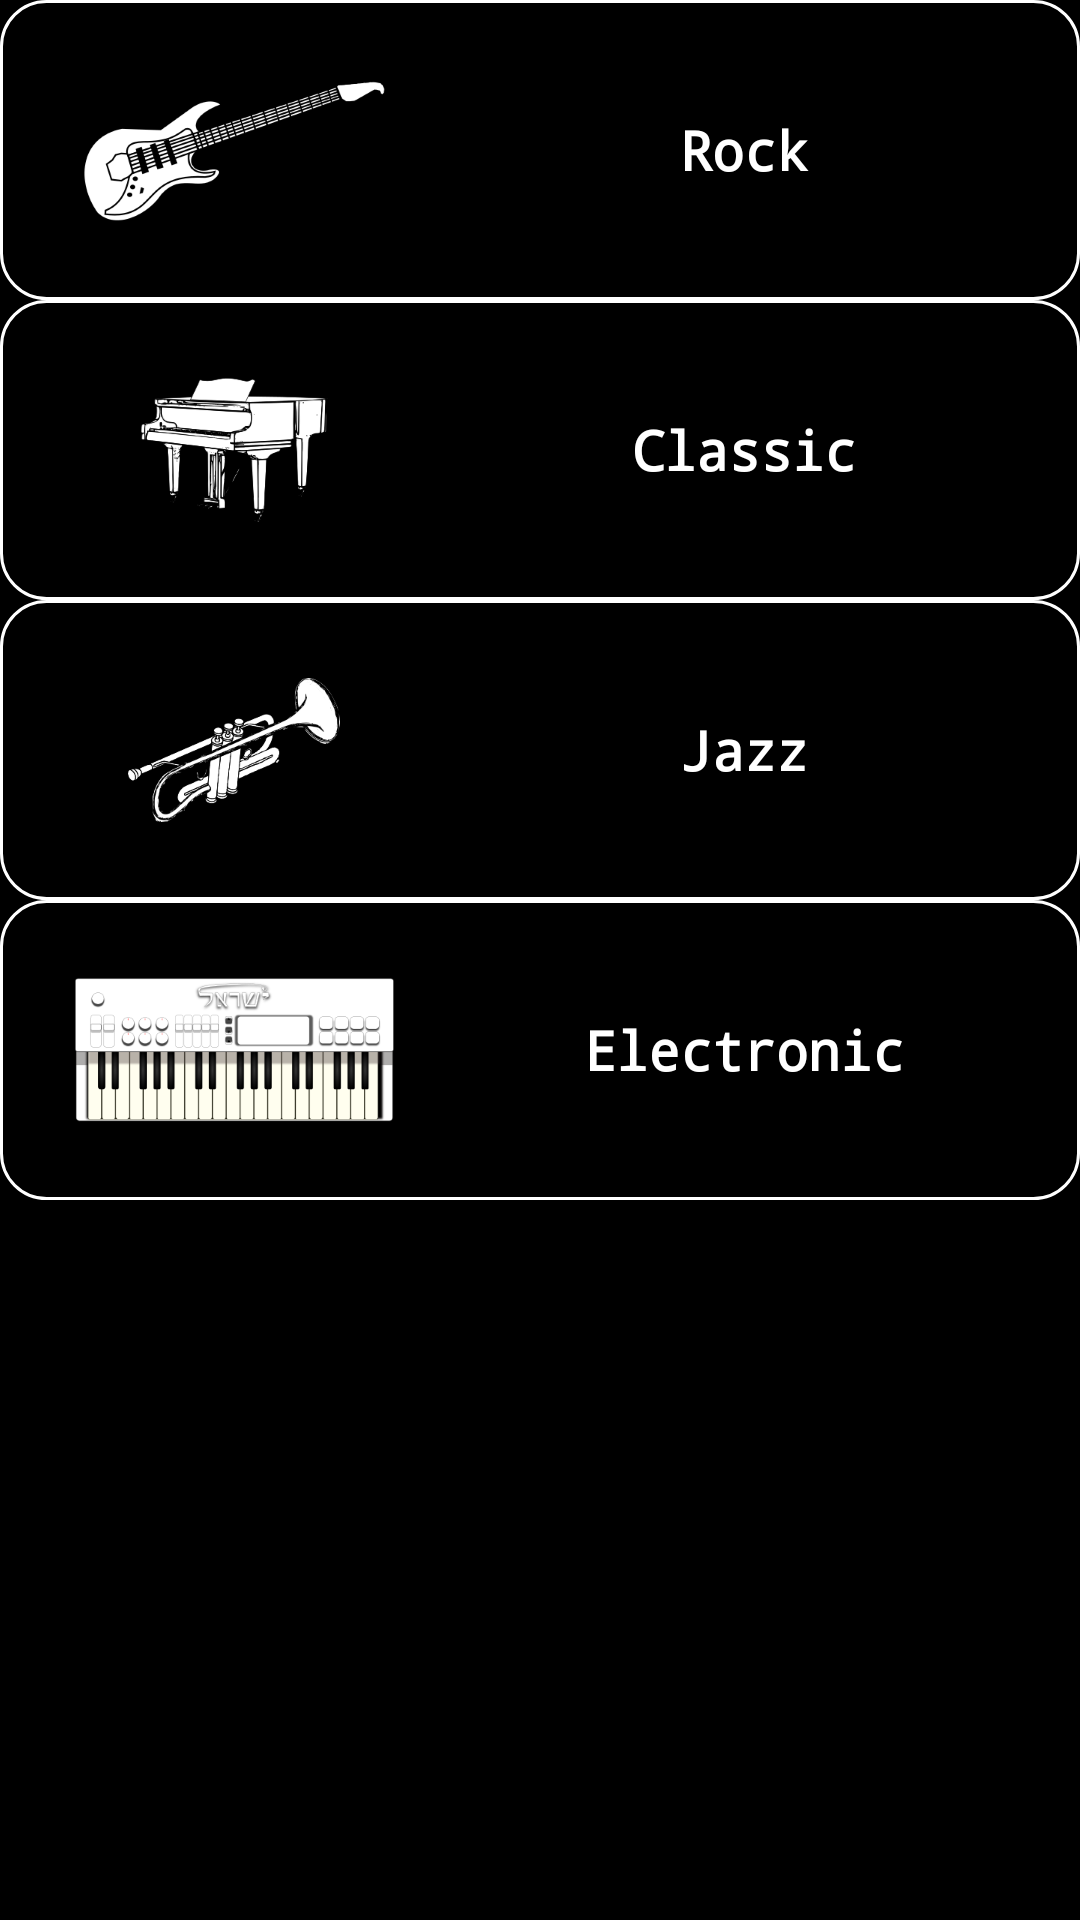

Point at icon controls on the screen. Image size 1080 × 1920, points as [x,y].
guitar: [234,151]
piano: [234,450]
synthesizer: [234,1049]
trumpet: [234,750]
